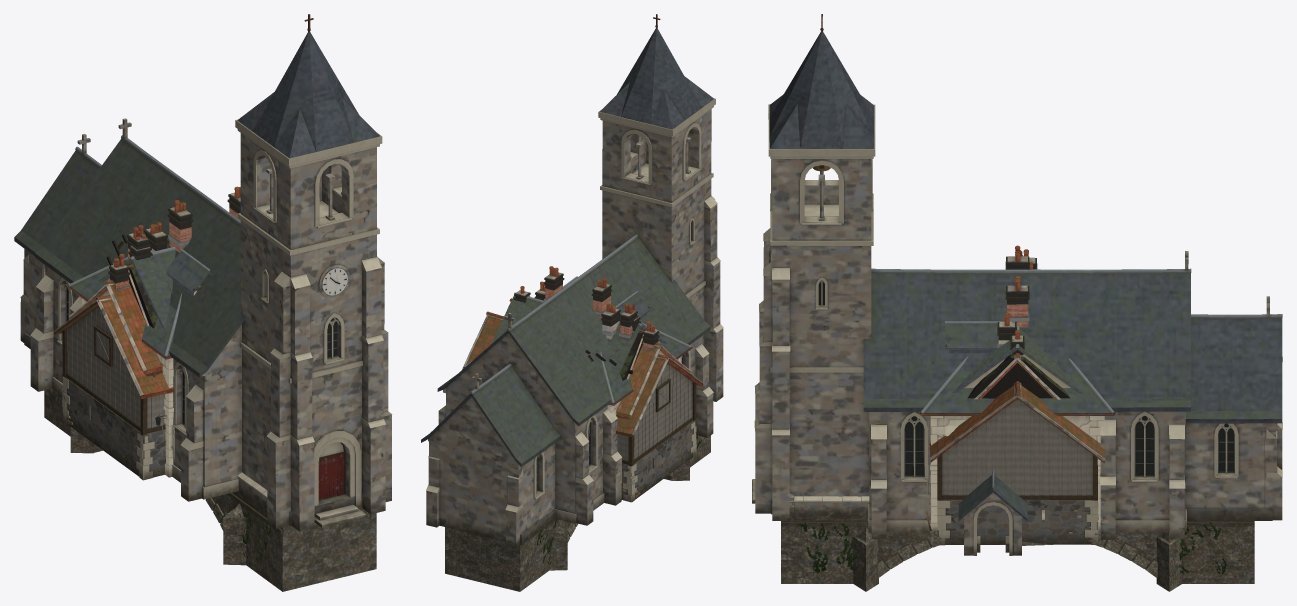
Rendered from village.glb.
3 views of the same model, side by side, from view 1: azimuth 30°, elevation 25°; view 2: azimuth 150°, elevation 25°; view 3: azimuth 270°, elevation 25° (orthographic). The views are drawn at different scales.
Parts seen in each view (by area): view 1: church, barn, bridge_stone, house_e, house_c, house_g, ruin_b, house_b, house_a; view 2: church, barn, bridge_stone, house_e, house_g, house_c, house_b, ruin_b, house_a; view 3: church, barn, bridge_stone, house_e, house_g, ruin_b, house_a.
Part boxes in pixels (x1,y1,x2,y2): church: (14,14,392,531); barn: (53,295,173,480); bridge_stone: (44,388,376,591); house_e: (67,186,240,477); house_c: (69,253,163,377); house_g: (98,225,175,329); ruin_b: (107,234,157,328); house_b: (144,222,175,292); house_a: (127,230,152,326); church: (421,14,723,546); barn: (462,311,703,502); bridge_stone: (445,435,710,591); house_e: (463,266,692,415); house_g: (491,292,667,381); house_c: (616,321,690,419); house_b: (523,281,620,352); ruin_b: (507,306,645,380); house_a: (509,286,644,379); church: (752,14,1282,555); barn: (926,381,1105,545); bridge_stone: (781,493,1254,591); house_e: (919,245,1115,535); house_g: (952,249,1083,393); ruin_b: (967,354,1069,398); house_a: (974,250,1060,399).
Bounding box in the file's own units: 13.45 × 28.05 × 24.67.
Materials: 42 (42 with a texture image).
